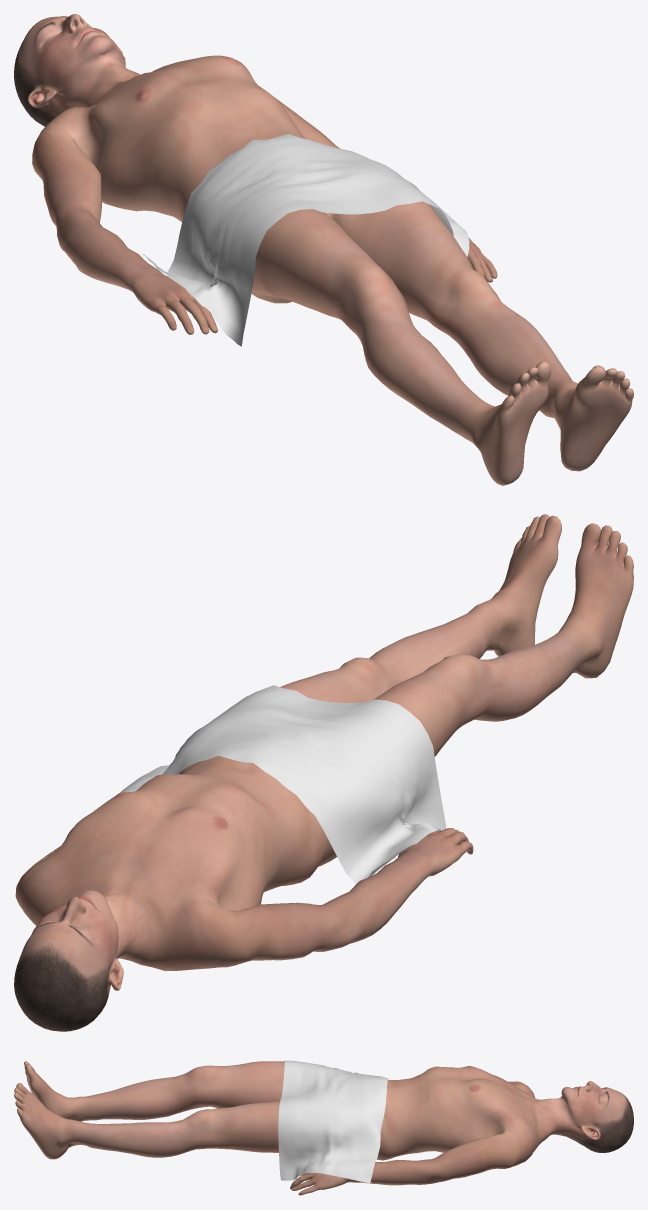
File: patient.glb
3 views of the same model, one above another, from view 1: azimuth 30°, elevation 25°; view 2: azimuth 150°, elevation 25°; view 3: azimuth 270°, elevation 25° (orthographic). The views are drawn at different scales.
Parts seen in each view (by area): view 1: Body, Serviette; view 2: Body, Serviette; view 3: Body, Serviette.
Part boxes in pixels (x1,y1,x2,y2): Body: (14,14,633,485); Serviette: (142,133,469,346); Body: (14,514,633,1031); Serviette: (120,685,445,883); Body: (14,1061,633,1195); Serviette: (278,1060,388,1183).
Size of the model in its own units: 64.25 by 26.97 by 186.
Materials: 2 (1 with a texture image).
